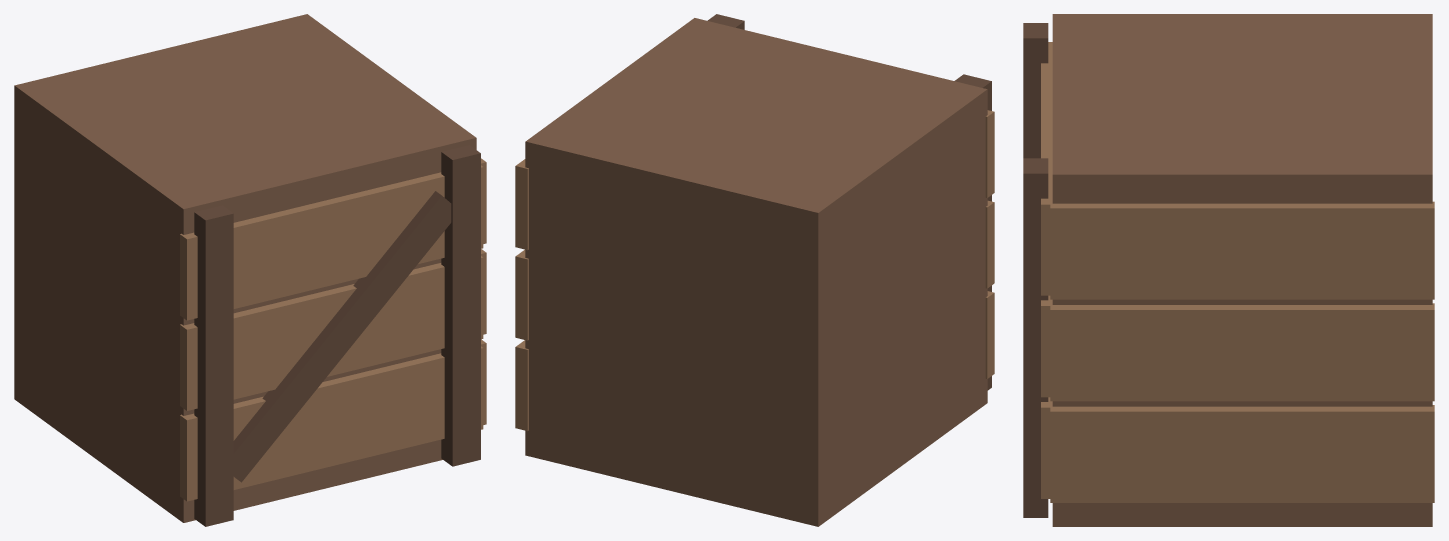
File: ENV_Crate_A_LOD0.glb
3 views of the same model, side by side, from view 1: azimuth 30°, elevation 25°; view 2: azimuth 150°, elevation 25°; view 3: azimuth 270°, elevation 25° (orthographic). The views are drawn at different scales.
Visible parts, largest first — view 1: ENV_Crate_A_LOD0_timber_wood, ENV_Crate_A_LOD0_timber_woodLight, ENV_Crate_A_LOD0_timber_woodDark; view 2: ENV_Crate_A_LOD0_timber_wood, ENV_Crate_A_LOD0_timber_woodLight, ENV_Crate_A_LOD0_timber_woodDark; view 3: ENV_Crate_A_LOD0_timber_woodLight, ENV_Crate_A_LOD0_timber_wood, ENV_Crate_A_LOD0_timber_woodDark.
Part boxes in pixels (<box>): ENV_Crate_A_LOD0_timber_wood: <box>14,14,476,522</box>; ENV_Crate_A_LOD0_timber_woodLight: <box>180,158,486,501</box>; ENV_Crate_A_LOD0_timber_woodDark: <box>194,145,480,526</box>; ENV_Crate_A_LOD0_timber_wood: <box>525,18,987,526</box>; ENV_Crate_A_LOD0_timber_woodLight: <box>515,110,994,430</box>; ENV_Crate_A_LOD0_timber_woodDark: <box>707,14,991,390</box>; ENV_Crate_A_LOD0_timber_woodLight: <box>1041,42,1434,502</box>; ENV_Crate_A_LOD0_timber_wood: <box>1052,14,1432,526</box>; ENV_Crate_A_LOD0_timber_woodDark: <box>1023,23,1048,517</box>.
Bounding box in the file's own units: 0.8605 × 0.85 × 0.8995.
